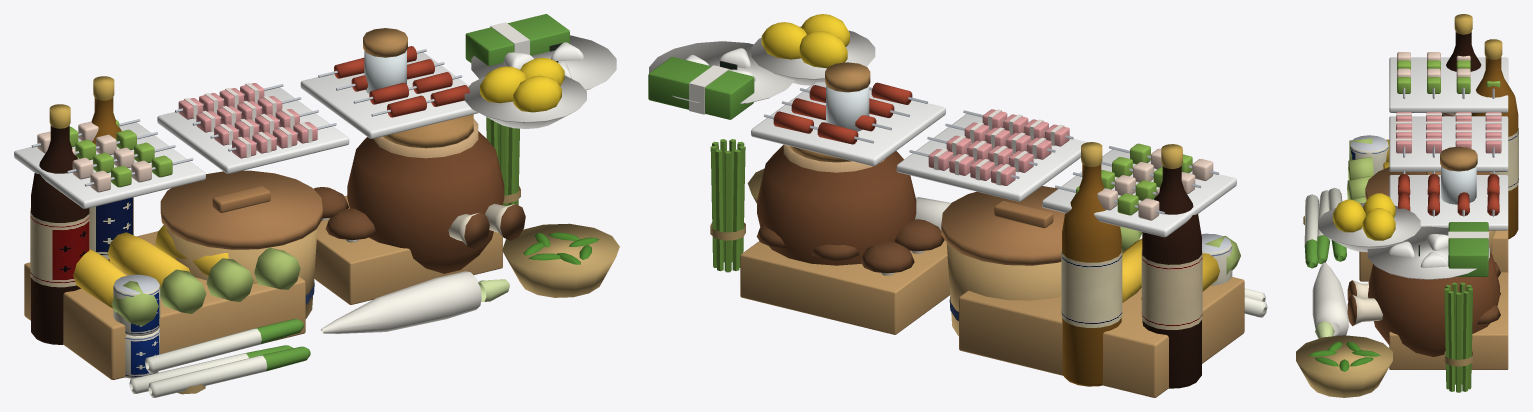
The model's file is cubbystock.glb.
The picture shows the model from 3 angles, left to right: view 1: azimuth 30°, elevation 25°; view 2: azimuth 150°, elevation 25°; view 3: azimuth 270°, elevation 25°; orthographic projection. The views are drawn at different scales.
Parts seen in each view (by area): view 1: StockPickleJar, StockCornCrate, StockMisoLid, StockMushroomBox, StockShishitoBasket, StockDaikonRoot, StockBottle0, StockSkewerTray2, StockSkewerTray1, StockSkewerTray0, StockBottleLabel0, StockWasabiBox (+34 smaller); view 2: StockCornCrate, StockPickleJar, StockMushroomBox, StockBottle1, StockMisoLid, StockBottle0, StockSkewerTray2, StockMisoTub, StockSkewerTray1, StockBottleLabel0, StockBottleLabel1, StockWasabiBox (+25 smaller); view 3: StockPickleJar, StockShishitoBasket, StockSkewerTray0, StockSkewerTray1, StockMushroomBox, StockSkewerTray2, StockOnigiriPlate, StockBottle1, StockLemonDish, StockDaikonRoot, StockWasabiBox, StockYuzuJar (+42 smaller).
Boxes of the visible parts, x1,y1,x2,y2 form: StockPickleJar: (347,119,504,273); StockCornCrate: (24,231,305,379); StockMisoLid: (160,170,322,249); StockMushroomBox: (314,195,502,304); StockShishitoBasket: (502,223,619,297); StockDaikonRoot: (320,271,481,333); StockBottle0: (31,104,89,344); StockSkewerTray2: (300,52,478,138); StockSkewerTray1: (157,87,349,173); StockSkewerTray0: (14,122,205,208); StockBottleLabel0: (30,208,90,287); StockWasabiBox: (465,14,569,65); StockCornCrate: (959,277,1244,397); StockPickleJar: (757,144,916,265); StockMushroomBox: (740,240,949,334); StockBottle1: (1062,142,1121,386); StockMisoLid: (941,186,1064,265); StockBottle0: (1142,144,1201,388); StockSkewerTray2: (751,82,945,166); StockMisoTub: (946,243,1061,335); StockSkewerTray1: (896,114,1087,201); StockBottleLabel0: (1141,250,1202,329); StockBottleLabel1: (1061,248,1122,327); StockWasabiBox: (648,57,754,119); StockPickleJar: (1368,252,1499,356); StockShishitoBasket: (1296,335,1392,397); StockSkewerTray0: (1389,57,1508,112); StockSkewerTray1: (1389,116,1508,171); StockMushroomBox: (1389,272,1508,369); StockSkewerTray2: (1389,175,1508,230); StockOnigiriPlate: (1367,226,1489,279); StockBottle1: (1471,39,1518,239); StockLemonDish: (1318,202,1420,252); StockDaikonRoot: (1312,262,1348,336); StockWasabiBox: (1448,222,1488,276); StockYuzuJar: (1441,165,1476,204).
Bounding box in the file's own units: 1.08 × 0.4201 × 0.4487.
41 materials, 3 textured.
